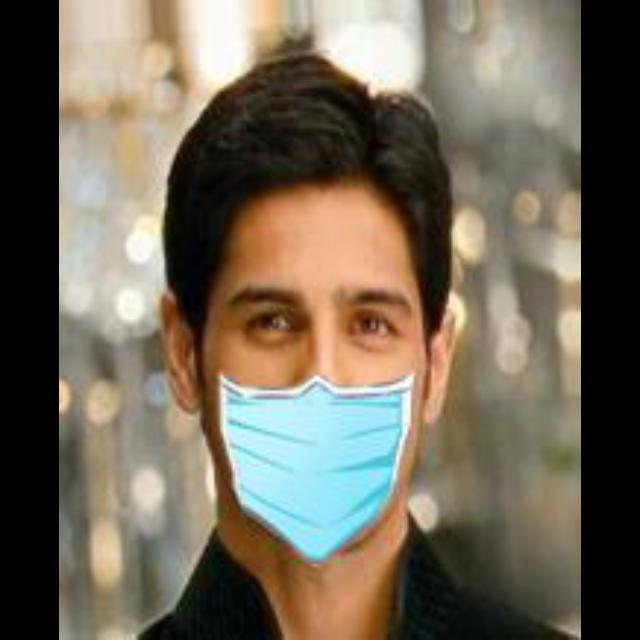suspicion: (178, 130, 436, 554)
